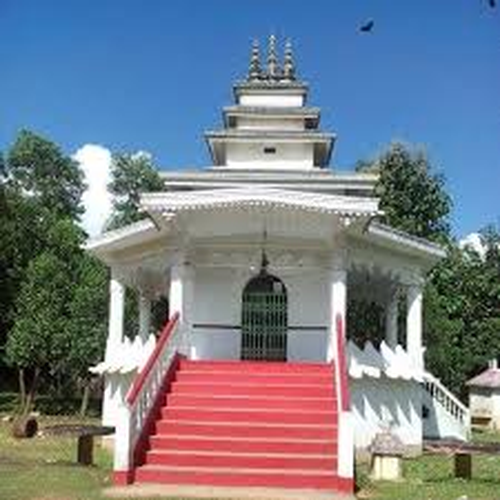Temple: (70, 41, 444, 452)
